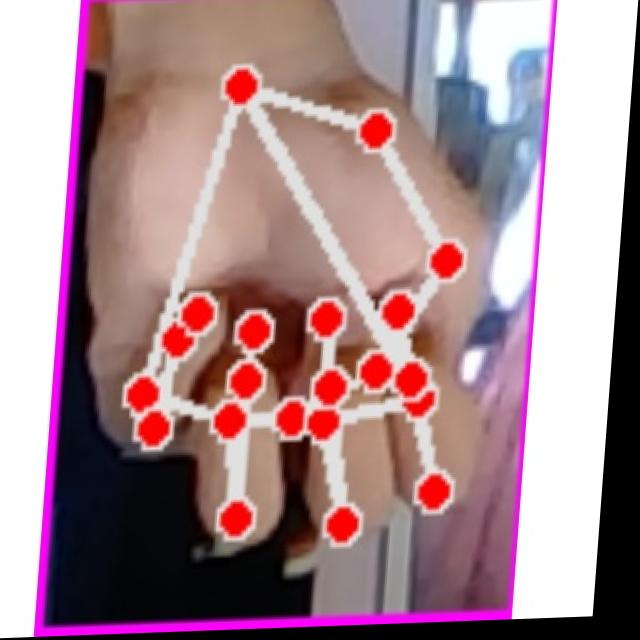M: (63, 42, 527, 597)
